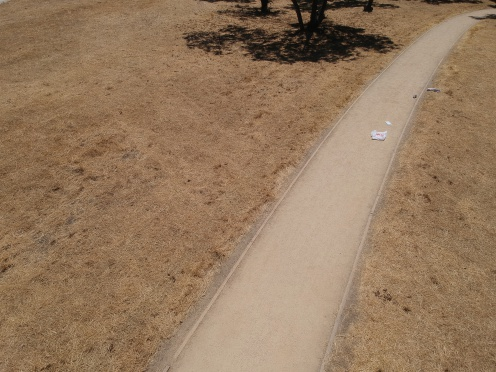can: (410, 93, 421, 101)
plastic bag: (365, 127, 389, 142)
